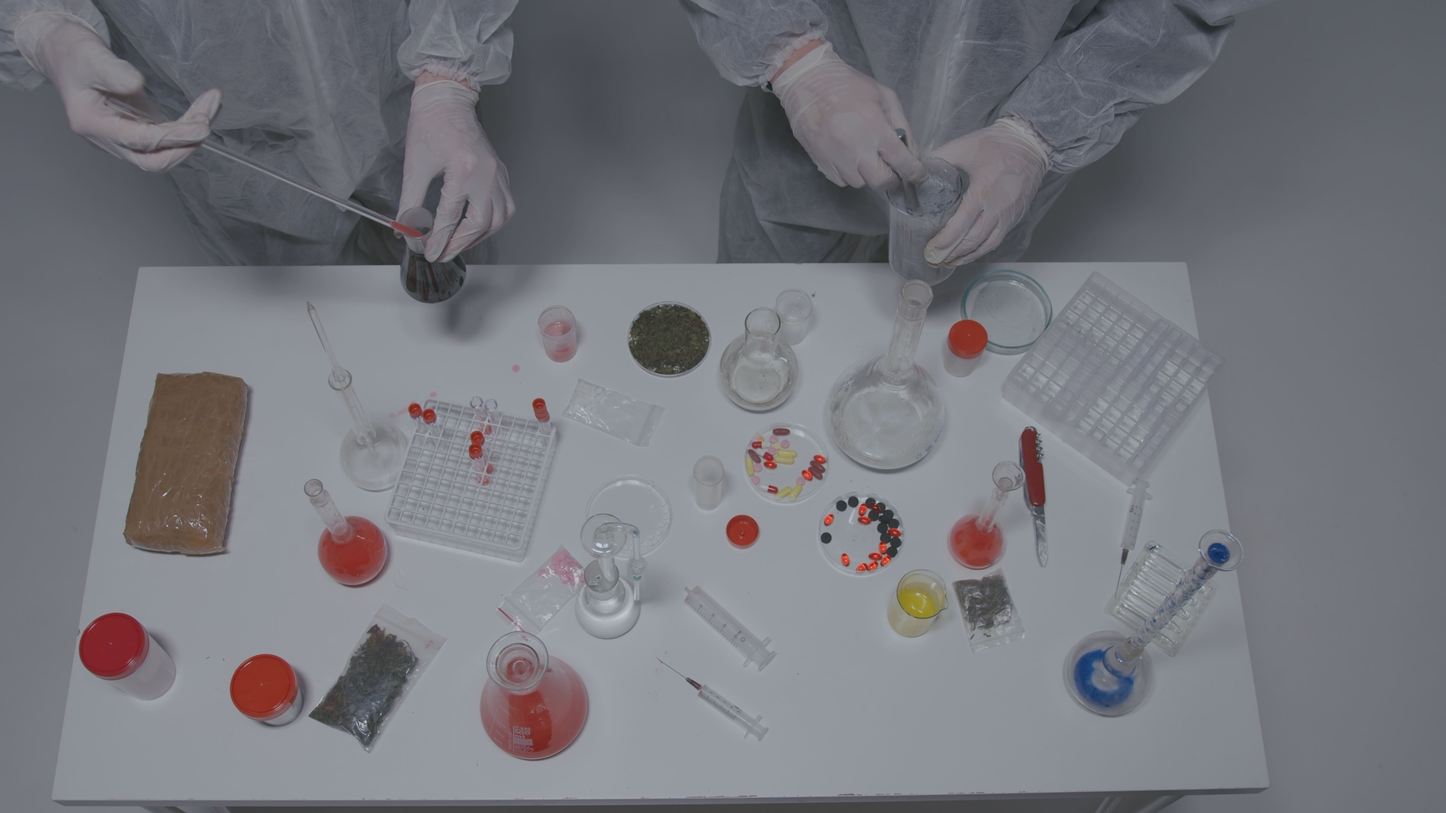gloves: (26, 16, 257, 178), (752, 28, 931, 198), (392, 77, 539, 272), (925, 122, 1073, 265)
